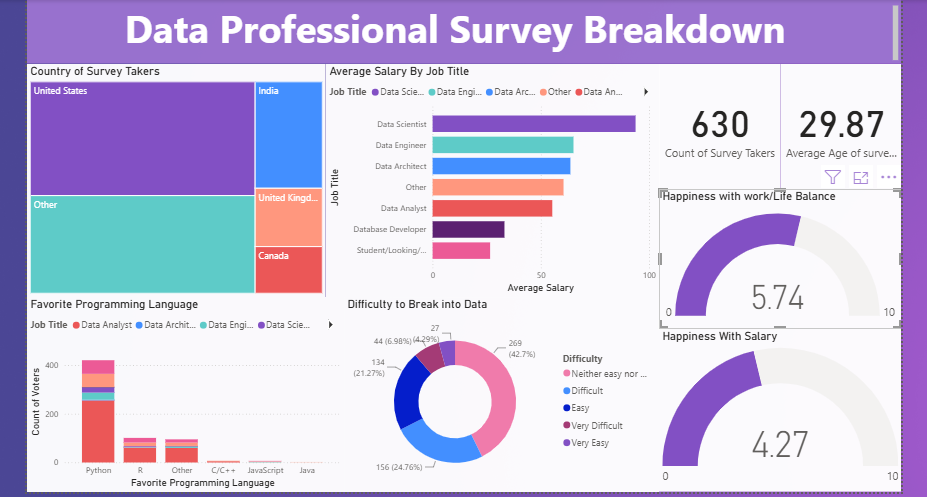

What the dashboard file says about the page in this screenshot:
{"tool":"powerbi","page":{"name":"Data Professional Survey Breakdown — Main Dashboard","canvas":[1280,720],"ordinal":0},"visuals":[{"type":"textbox","box":[0,0,1280.3,93.3],"z":0},{"type":"card","fields":{"Values":["Count(Data Professional Survey.Unique ID)"]},"box":[924.9,93.7,178.4,182.9],"z":1000},{"type":"card","fields":{"Values":["Avg(Data Professional Survey.Q10 - Current Age)"]},"box":[1103.3,93.7,177,182.9],"z":2000},{"type":"barChart","title":"Average Salary By Job Title","fields":{"Category":["Data Professional Survey.Q1 - Which Title Best Fits your Current Role?.1"],"Series":["Data Professional Survey.Q1 - Which Title Best Fits your Current Role?.1"],"Y":["Avg(Data Professional Survey.Average Salary)"]},"box":[437.2,93.7,487.7,340.5],"z":3000},{"type":"columnChart","title":"Favorite Programming Language","fields":{"Category":["Data Professional Survey.Q5 - Favorite Programming Language.1"],"Series":["Data Professional Survey.Q1 - Which Title Best Fits your Current Role?.1"],"Y":["CountNonNull(Data Professional Survey.Unique ID)"]},"box":[0,434.2,463.9,285.5],"z":4000},{"type":"treemap","title":"Country of Survey Takers","fields":{"Group":["Data Professional Survey.Q11 - Which Country do you live in?.1"],"Values":["CountNonNull(Data Professional Survey.Q11 - Which Country do you live in?.1)"]},"box":[0,93.7,437.2,340.5],"z":5000},{"type":"gauge","title":"Happiness with work/Life Balance","fields":{"MaxValue":["Max(Data Professional Survey.Q6 - How Happy are you in your Current Position with the following? (Work/Life Balance))"],"MinValue":["Min(Data Professional Survey.Q6 - How Happy are you in your Current Position with the following? (Work/Life Balance))1"],"Y":["Avg(Data Professional Survey.Q6 - How Happy are you in your Current Position with the following? (Work/Life Balance))"]},"box":[924.9,276.6,355.4,205.2],"z":6000},{"type":"gauge","title":"Happiness With Salary","fields":{"MaxValue":["Max(Data Professional Survey.Q6 - How Happy are you in your Current Position with the following? (Salary))2"],"MinValue":["Min(Data Professional Survey.Q6 - How Happy are you in your Current Position with the following? (Salary))1"],"Y":["Avg(Data Professional Survey.Q6 - How Happy are you in your Current Position with the following? (Salary))"]},"box":[924.9,481.8,355.4,237.9],"z":7000},{"type":"donutChart","title":"Difficulty to Break into Data","fields":{"Category":["Data Professional Survey.Q7 - How difficult was it for you to break into Data?"],"Y":["CountNonNull(Data Professional Survey.Average Salary)"]},"box":[463.9,434.2,461,285.5],"z":8000}]}

Visuals, with their boxes on the page's 1280x720 design canvas (x1, y1, x2, y2). These are canvas units, not pixel positions in the 927x497 screenshot, which may show the page scaled, cropped or inside an application window:
textbox: detection(0, 0, 1280, 93)
card - Count(Data Professional Survey.Unique ID): detection(925, 94, 1103, 277)
card - Avg(Data Professional Survey.Q10 - Current Age): detection(1103, 94, 1280, 277)
"Average Salary By Job Title" barChart: detection(437, 94, 925, 434)
"Favorite Programming Language" columnChart: detection(0, 434, 464, 720)
"Country of Survey Takers" treemap: detection(0, 94, 437, 434)
"Happiness with work/Life Balance" gauge: detection(925, 277, 1280, 482)
"Happiness With Salary" gauge: detection(925, 482, 1280, 720)
"Difficulty to Break into Data" donutChart: detection(464, 434, 925, 720)
